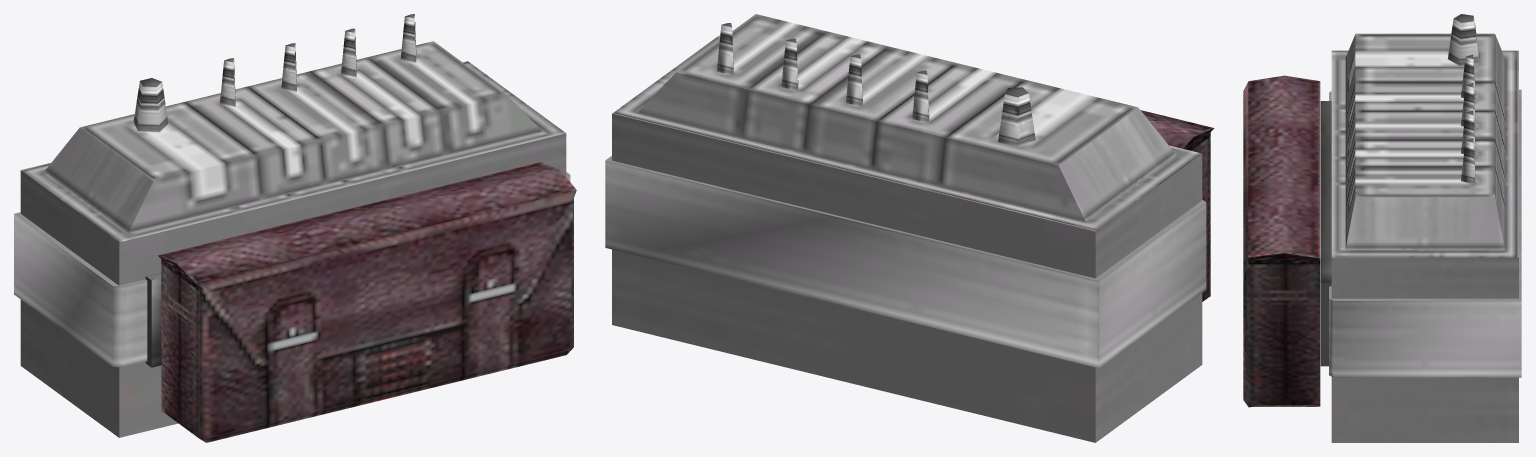
The model's file is eqp_hairdressing_hair_dye_kit_l0.fbx.
3 renders of one model, left to right at view 1: azimuth 30°, elevation 25°; view 2: azimuth 150°, elevation 25°; view 3: azimuth 270°, elevation 25°, orthographic. The views are drawn at different scales.
Parts seen in each view (by area): view 1: mesh_node; view 2: mesh_node; view 3: mesh_node.
Part boxes in pixels (bbox=[...]): mesh_node: bbox=[14, 14, 576, 442]; mesh_node: bbox=[605, 14, 1214, 442]; mesh_node: bbox=[1243, 14, 1521, 442].
Size of the model in its own units: 0.4018 by 0.236 by 0.2234.
